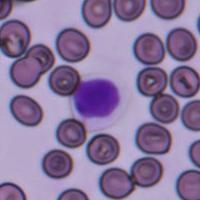L: (68, 74, 130, 130)
